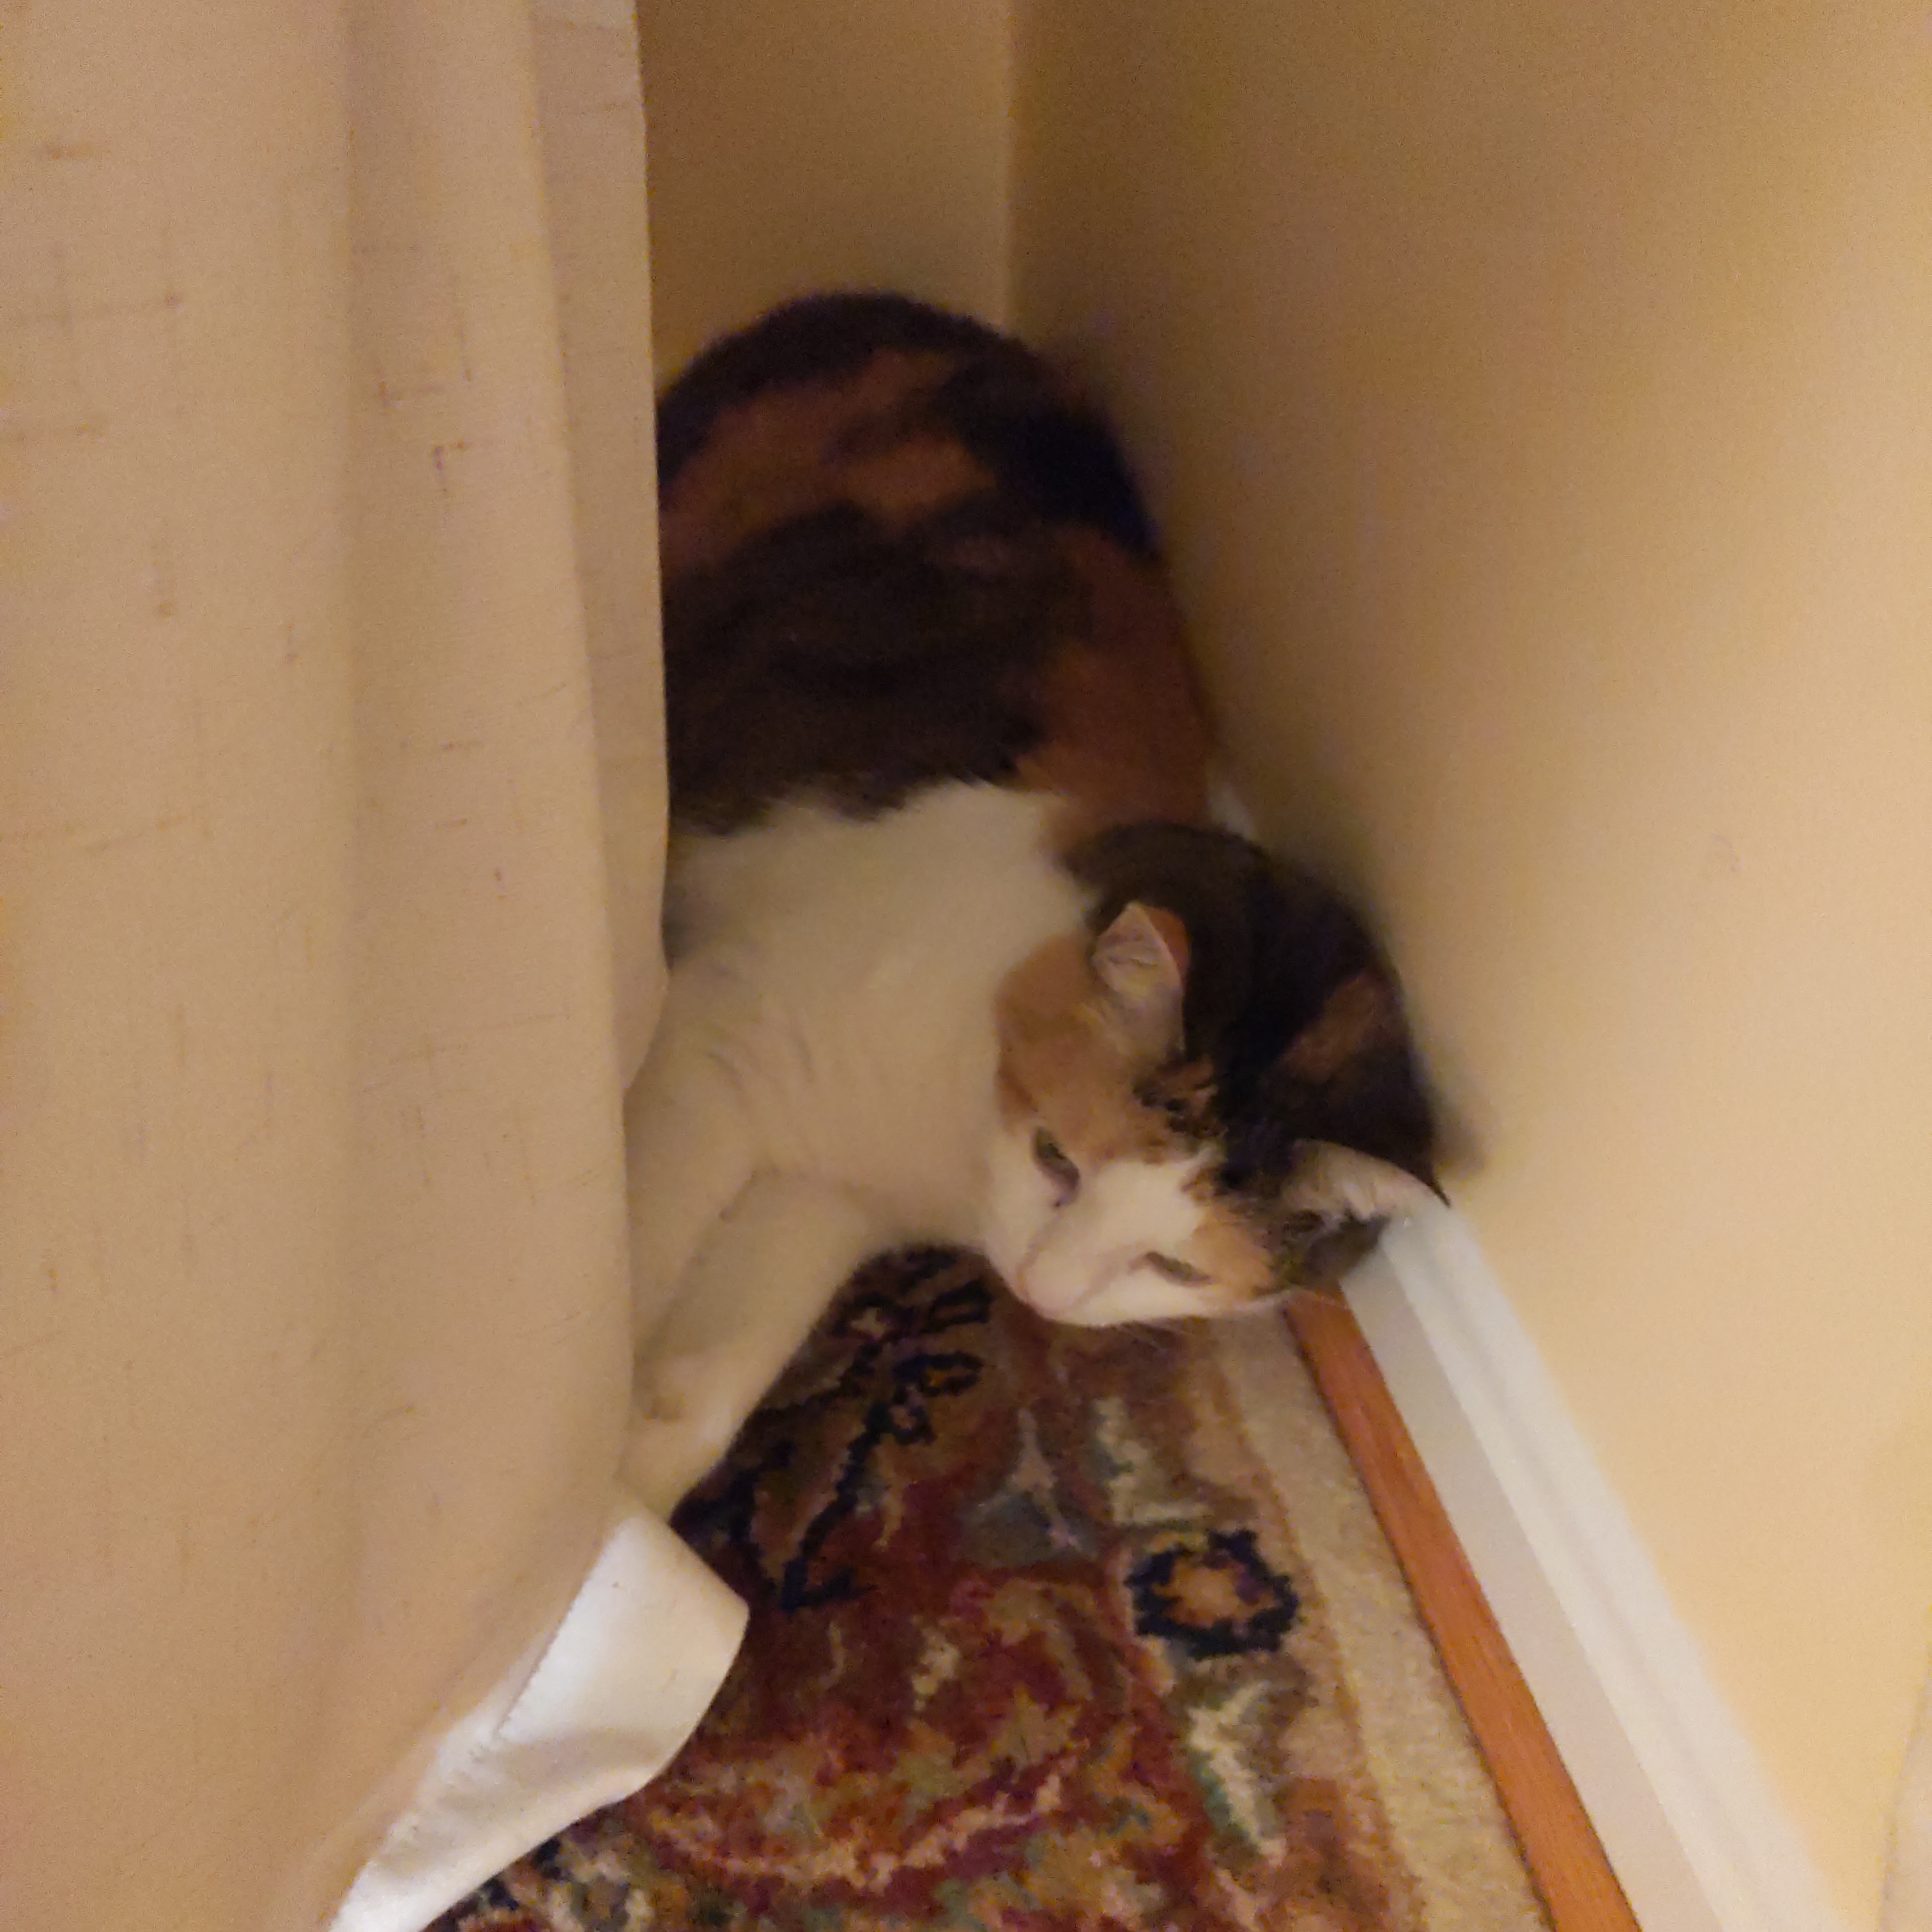Calico: (626, 290, 1454, 1520)
